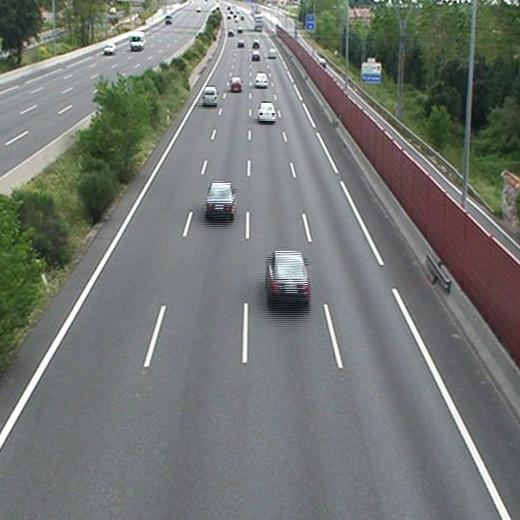car: (266, 252, 308, 300), (205, 184, 234, 214), (257, 103, 276, 121), (201, 87, 218, 104), (254, 74, 269, 87), (229, 79, 242, 92), (267, 48, 277, 58), (252, 41, 260, 50), (251, 53, 261, 60), (237, 40, 245, 48)
